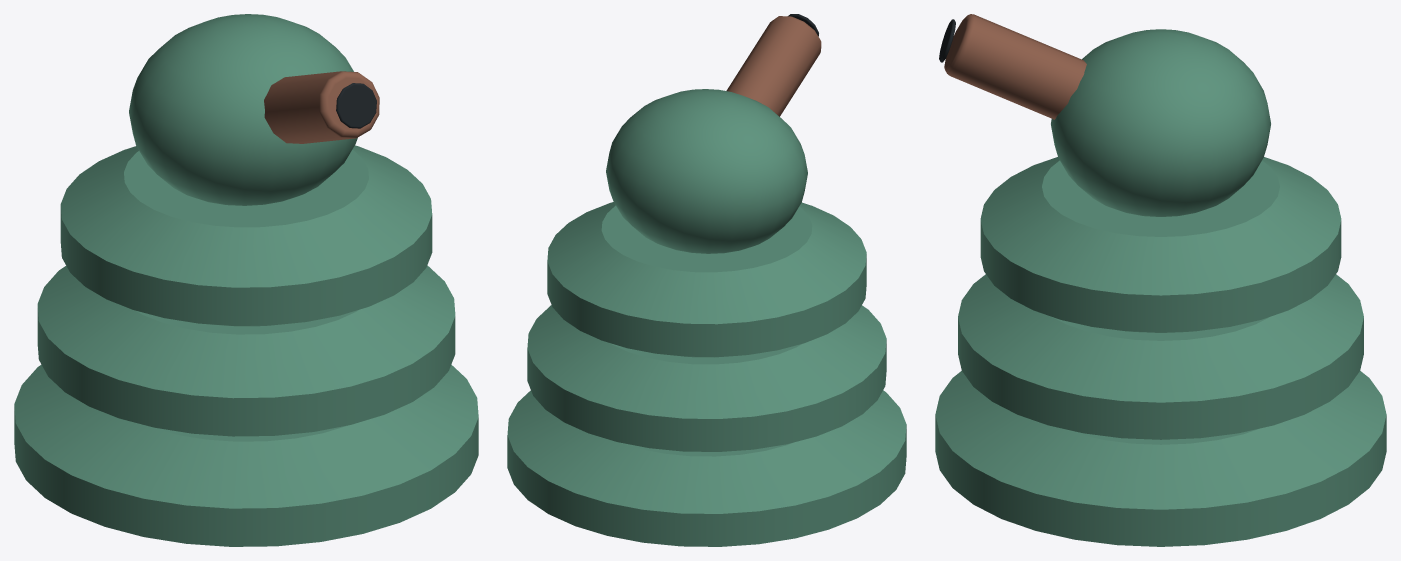
3 views of the same model, side by side, from view 1: azimuth 30°, elevation 25°; view 2: azimuth 150°, elevation 25°; view 3: azimuth 270°, elevation 25° (orthographic). The views are drawn at different scales.
Parts seen in each view (by area): view 1: Terraced oval hull, Terraced oval hull.002, Terraced oval hull.001, Weapon pivot, Weapon barrel, Weapon dark bore; view 2: Terraced oval hull, Terraced oval hull.002, Terraced oval hull.001, Weapon pivot, Weapon barrel; view 3: Terraced oval hull, Terraced oval hull.002, Terraced oval hull.001, Weapon pivot, Weapon barrel.
Part boxes in pixels (left/top/right/bottom): Terraced oval hull: left=14, top=364, right=478, bottom=546; Terraced oval hull.002: left=60, top=145, right=432, bottom=326; Terraced oval hull.001: left=37, top=265, right=455, bottom=436; Weapon pivot: left=129, top=14, right=357, bottom=205; Weapon barrel: left=264, top=71, right=379, bottom=143; Weapon dark bore: left=336, top=83, right=376, bottom=128; Terraced oval hull: left=507, top=390, right=906, bottom=546; Terraced oval hull.002: left=547, top=202, right=866, bottom=357; Terraced oval hull.001: left=527, top=305, right=886, bottom=451; Weapon pivot: left=606, top=89, right=807, bottom=253; Weapon barrel: left=726, top=16, right=821, bottom=116; Terraced oval hull: left=935, top=371, right=1386, bottom=546; Terraced oval hull.002: left=980, top=157, right=1341, bottom=332; Terraced oval hull.001: left=958, top=274, right=1363, bottom=439; Weapon pivot: left=1051, top=29, right=1270, bottom=216; Weapon barrel: left=944, top=14, right=1086, bottom=119.
Size of the model in its own units: 1.76 by 1.97 by 1.76.
